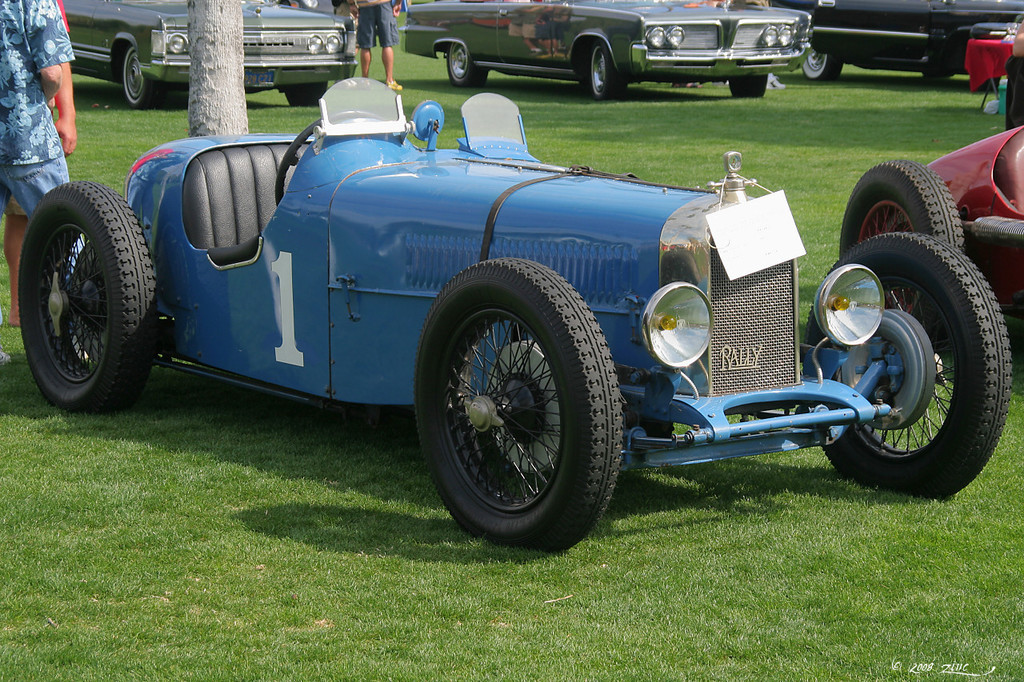Car: (16, 75, 1016, 559), (403, 0, 816, 97), (835, 121, 1023, 308), (61, 0, 352, 111), (808, 0, 1023, 82)
